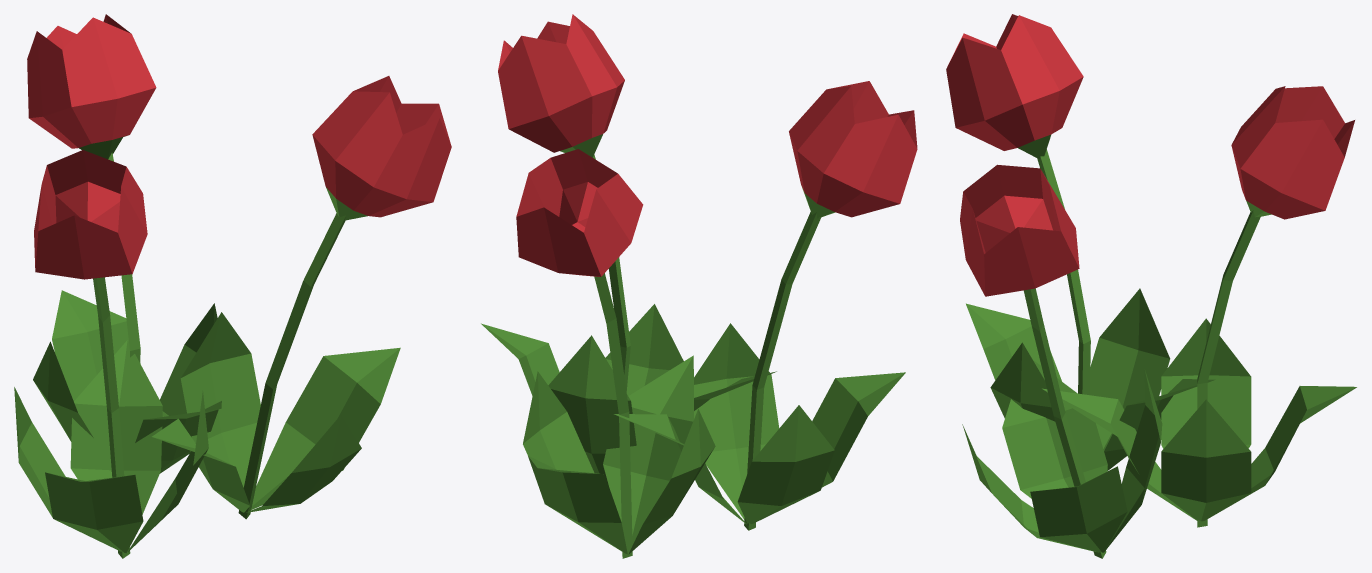
The model's file is roses.glb.
The picture shows the model from 3 angles, left to right: view 1: azimuth 30°, elevation 25°; view 2: azimuth 150°, elevation 25°; view 3: azimuth 270°, elevation 25°; orthographic projection. The views are drawn at different scales.
Visible parts, largest first — view 1: roses; view 2: roses; view 3: roses.
Boxes of the visible parts, box(x1,y1,x2,y2) form: roses: box(14, 14, 451, 558); roses: box(481, 14, 917, 558); roses: box(946, 14, 1356, 558).
Bounding box in the file's own units: 0.7085 × 0.736 × 0.619.
